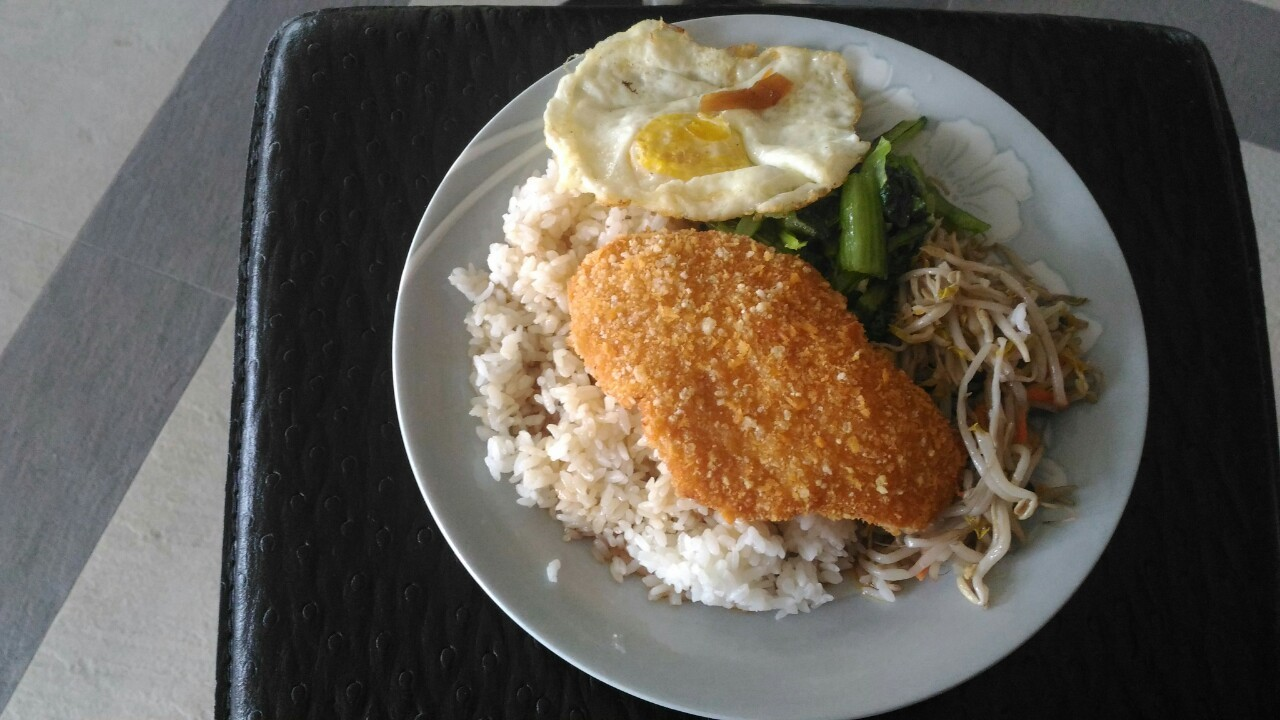fried_chicken: (560, 229, 988, 545)
fried_eggs: (543, 16, 861, 218)
mung_bean_sprouts: (906, 205, 1084, 564), (801, 138, 959, 297)
rice: (465, 236, 562, 491)
